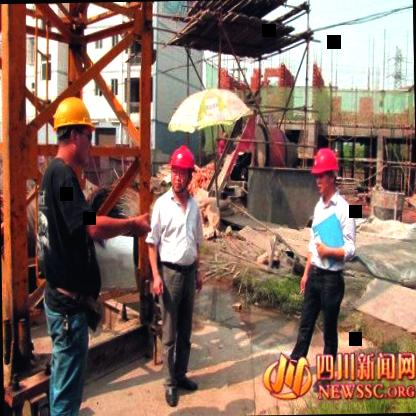helmet: (45, 90, 100, 170), (308, 138, 344, 202), (167, 140, 199, 194)
